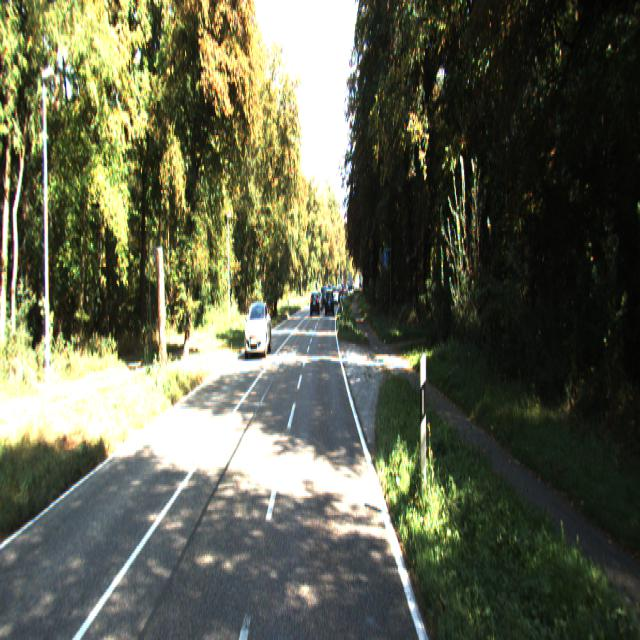Car: (243, 300, 273, 360)
